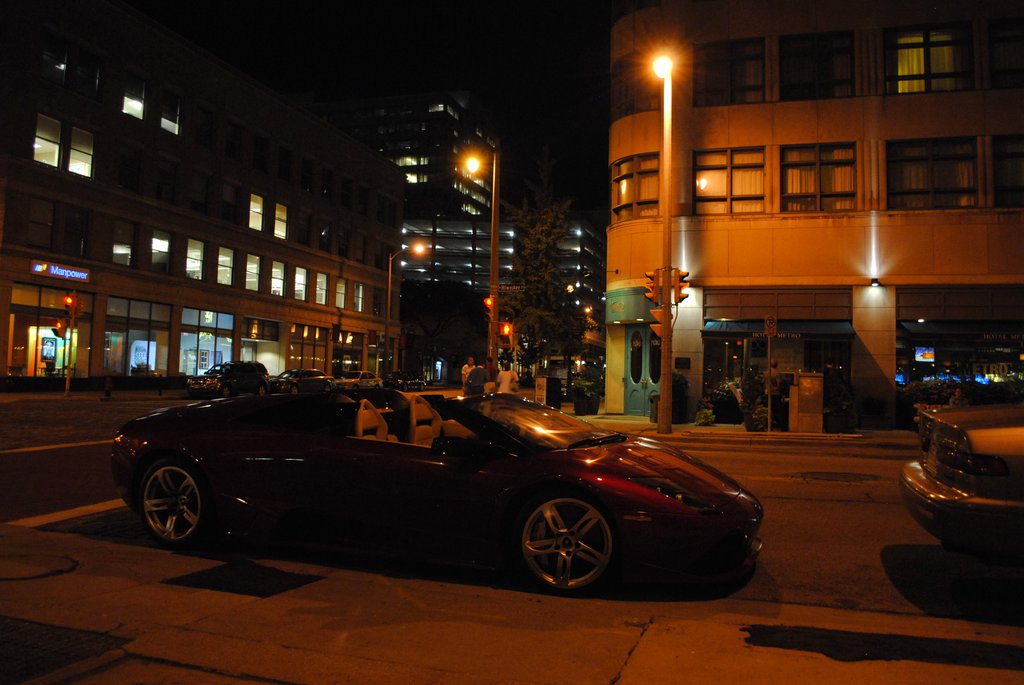car: (104, 379, 774, 601)
